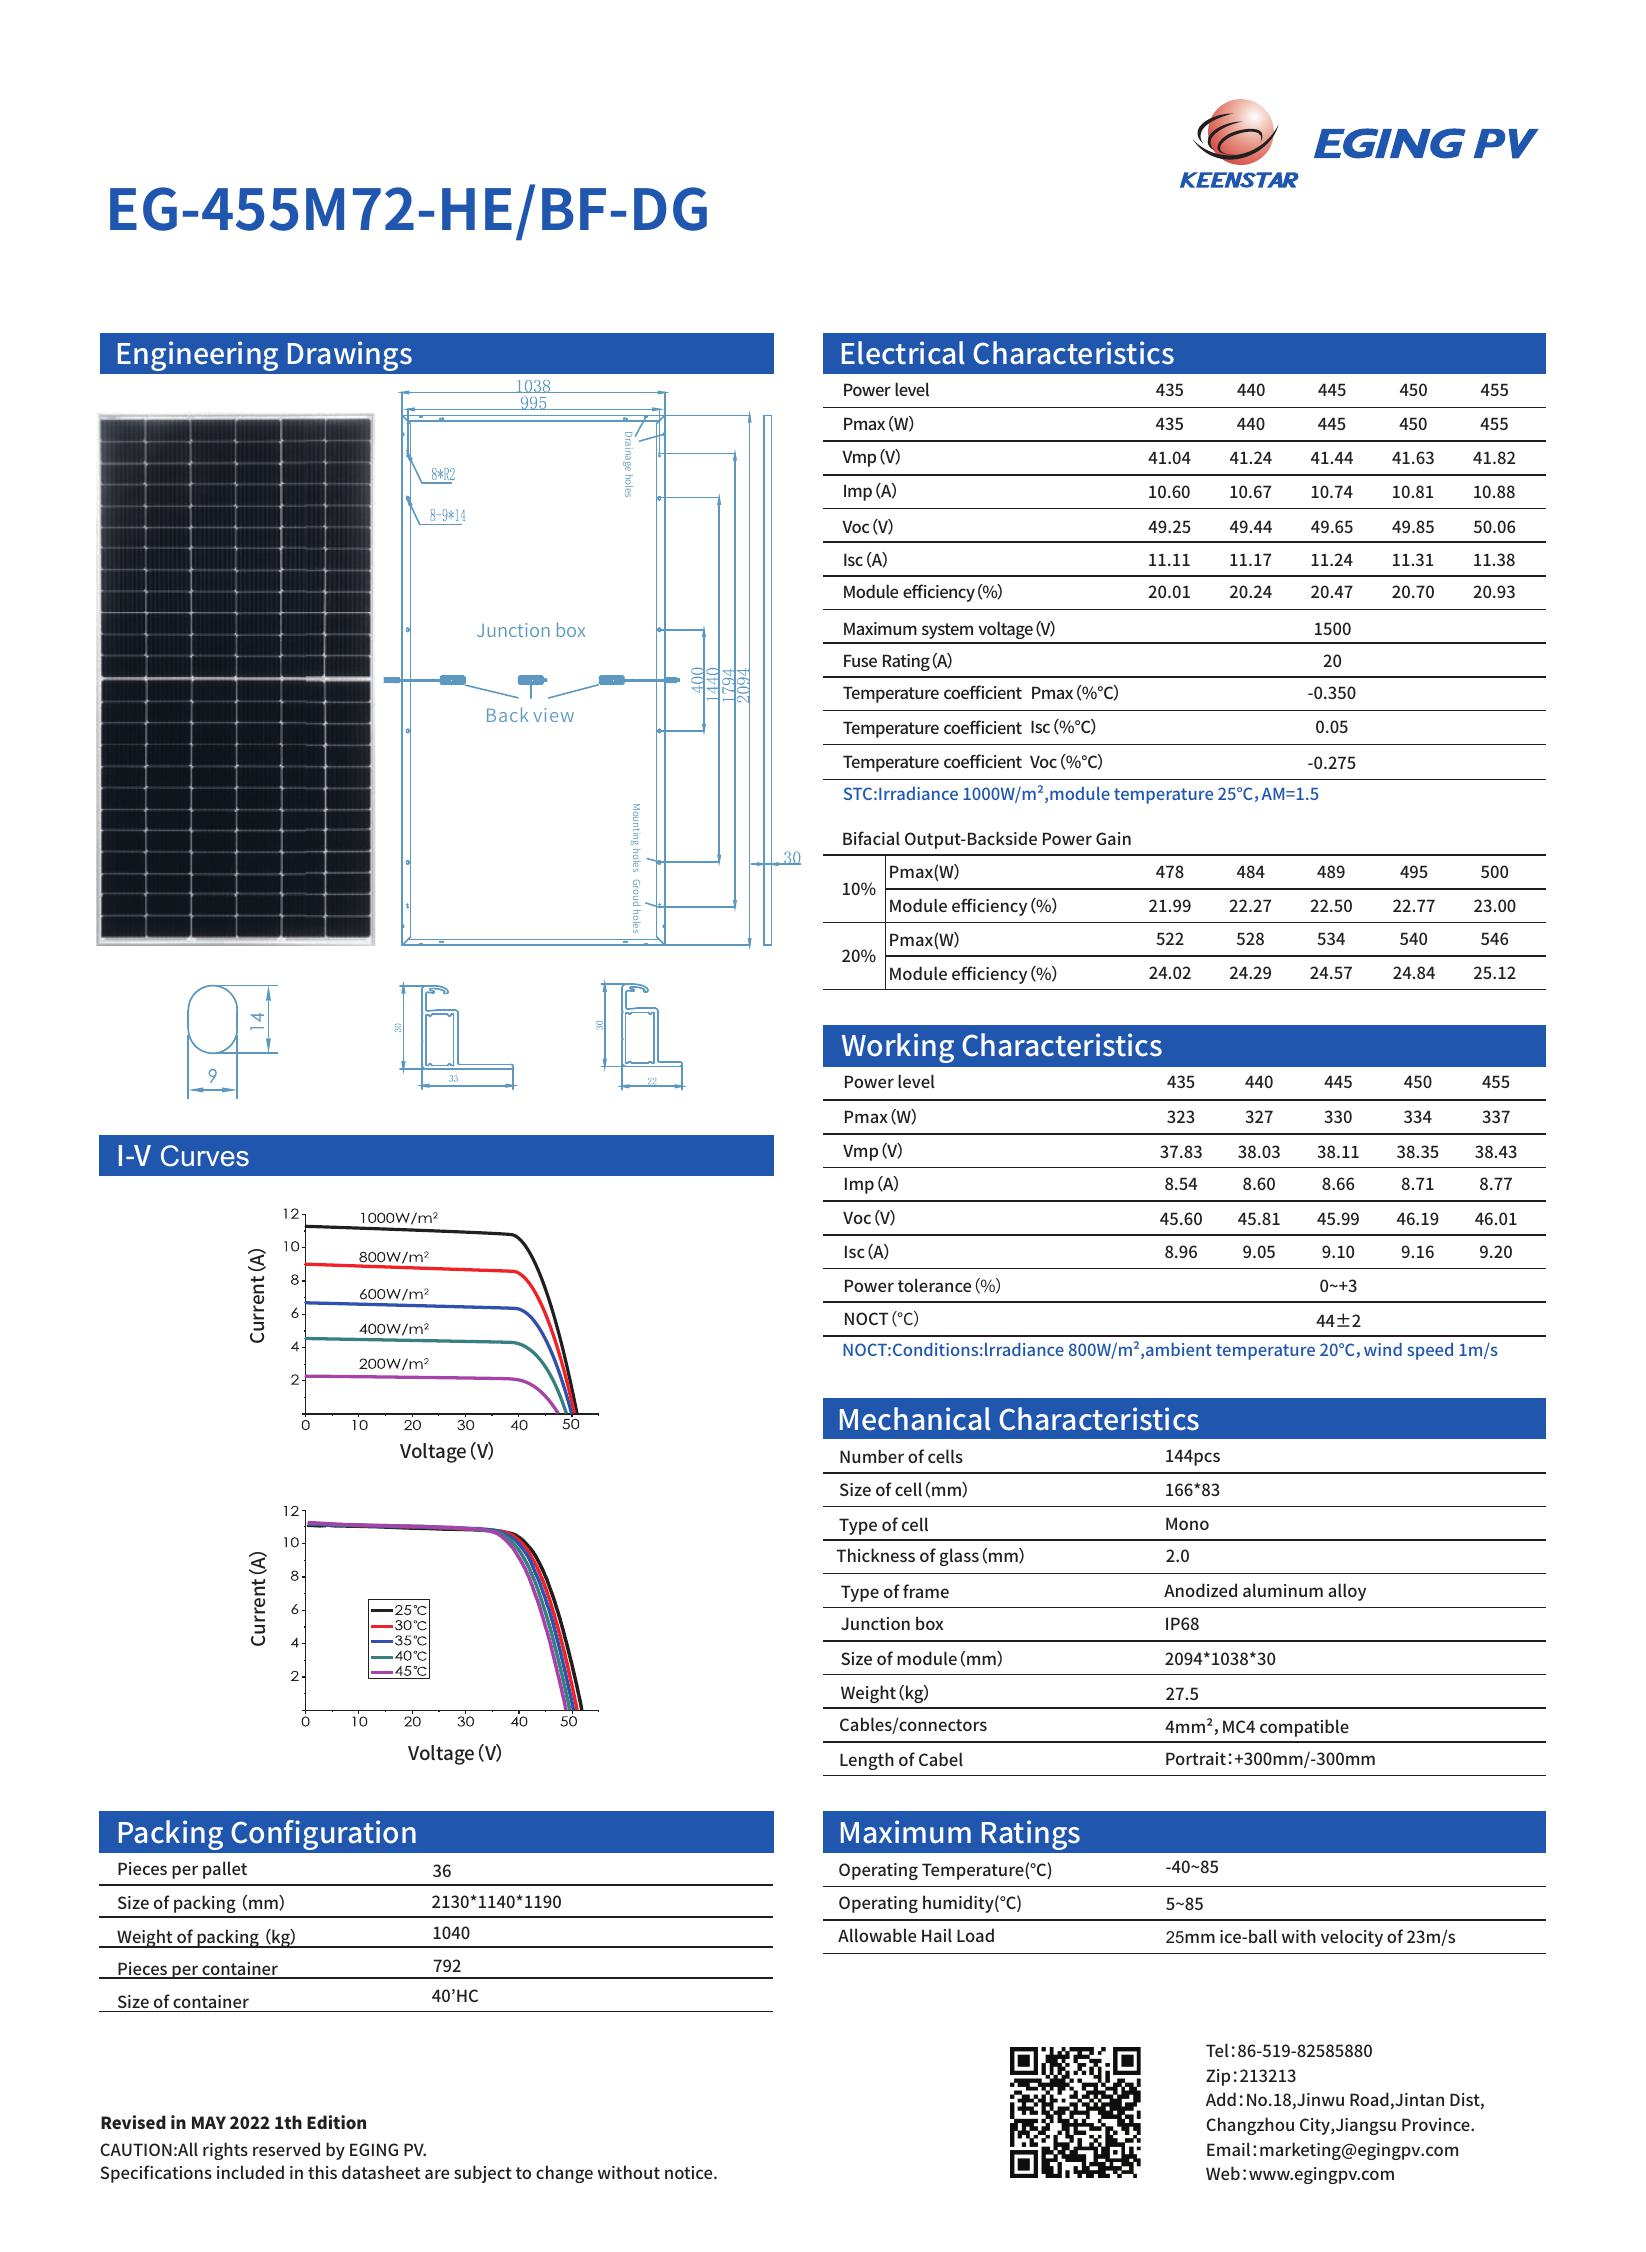table: (819, 376, 1564, 998), (817, 1442, 1557, 1785), (813, 1068, 1552, 1367), (86, 1857, 778, 2025), (827, 1859, 1557, 1974)
